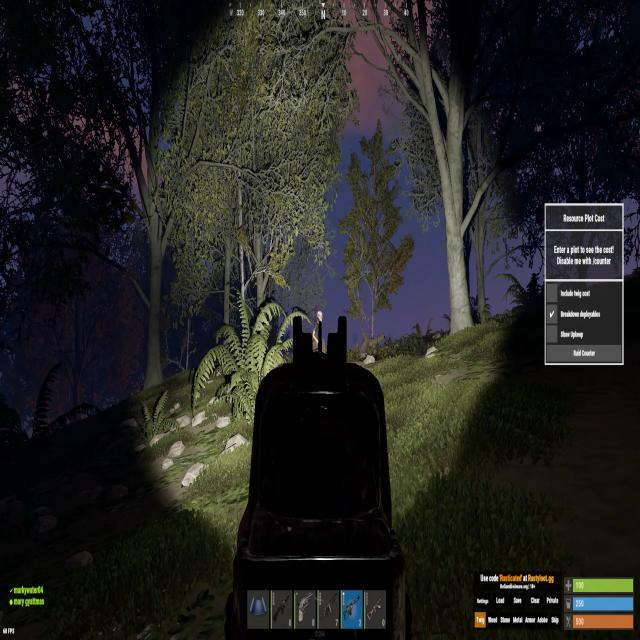Player: (313, 310, 326, 353)
